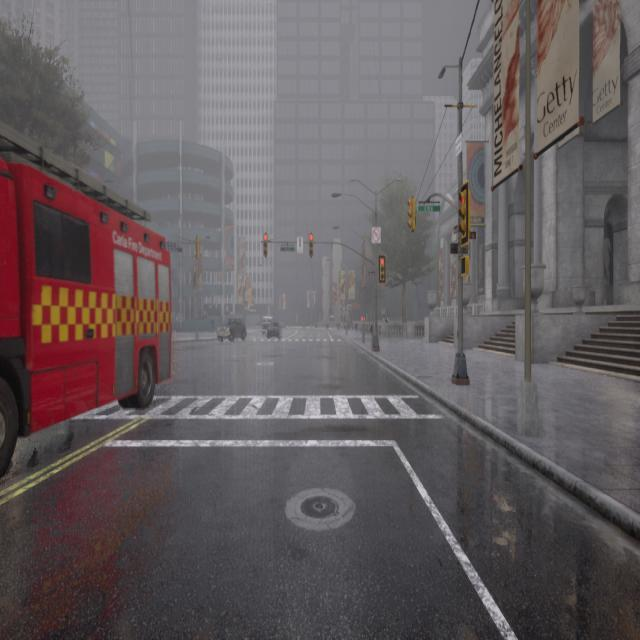7: (454, 179, 474, 283), (402, 188, 422, 246), (374, 247, 392, 290), (257, 222, 273, 264), (304, 228, 319, 262)
8: (456, 186, 468, 206), (406, 194, 416, 212), (378, 252, 386, 267), (308, 230, 316, 244), (260, 231, 269, 241)
bien_cam: (368, 226, 384, 246)
